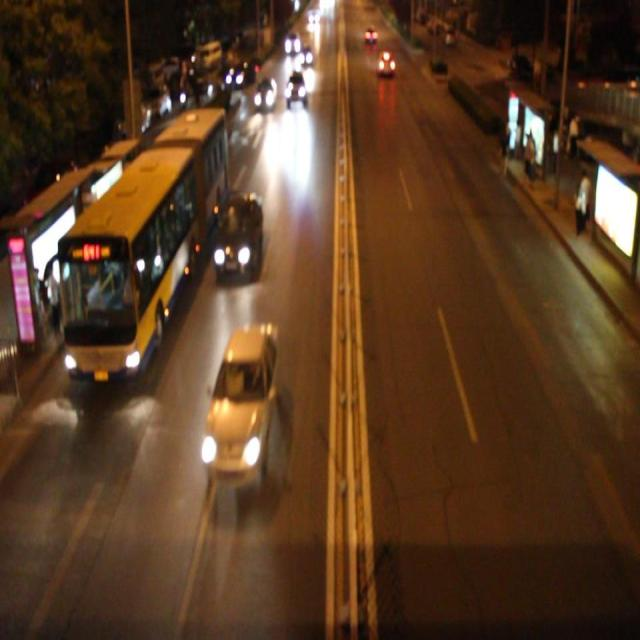car: (201, 321, 280, 481), (214, 190, 265, 283), (253, 73, 279, 114), (283, 70, 308, 108), (376, 50, 395, 76)
van: (54, 102, 219, 376)
